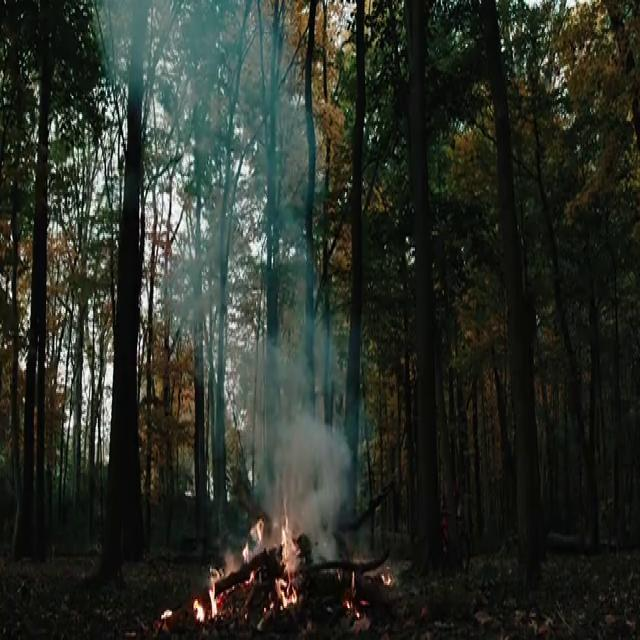smoke: (228, 318, 349, 514), (98, 5, 288, 104), (186, 115, 314, 222)
